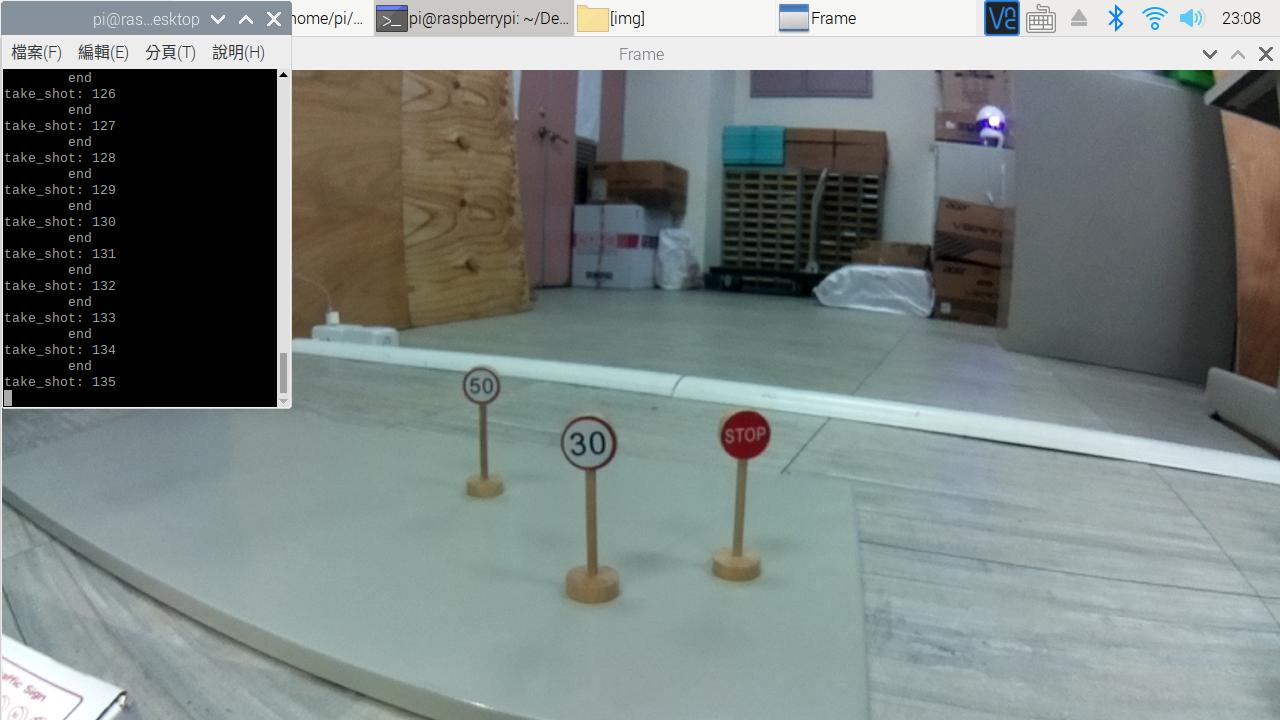Speed30: (553, 413, 631, 485)
Speed50: (456, 357, 508, 424)
Stop: (703, 399, 787, 487)
